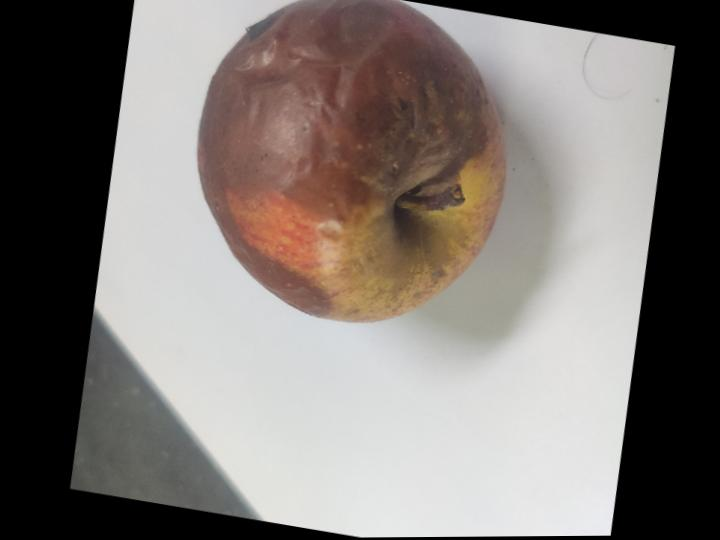apple: (198, 0, 503, 322)
rot_mold_decay: (197, 0, 487, 317)
